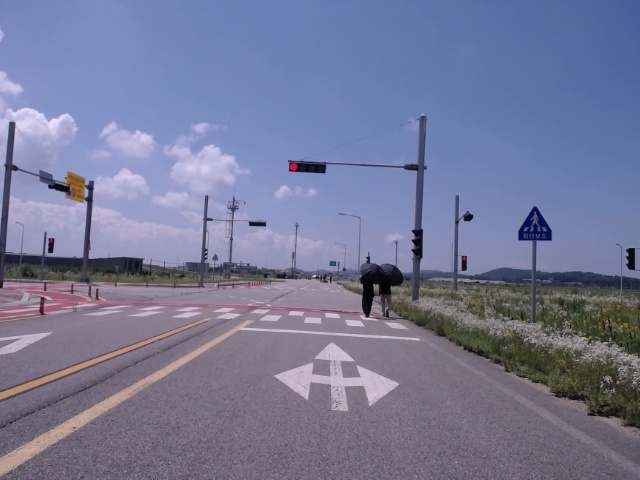red_4: (289, 163, 326, 173)
